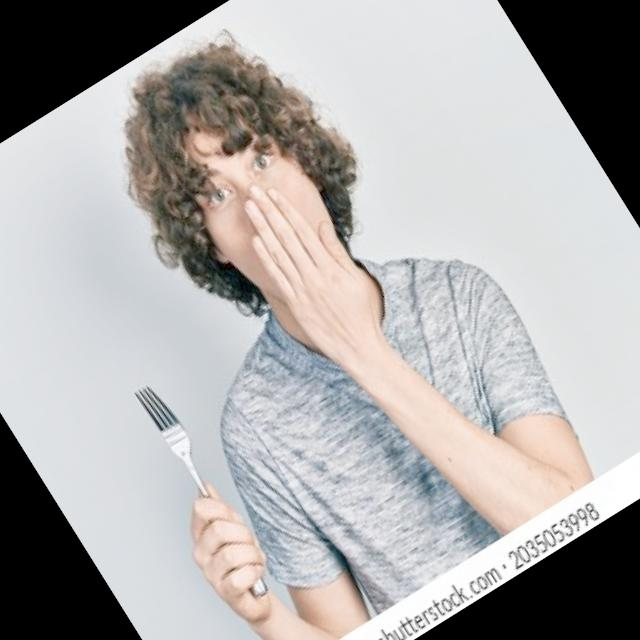fork: (128, 376, 283, 602)
